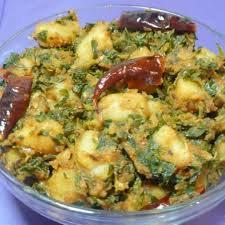Aloo Methi: (2, 10, 225, 209)
